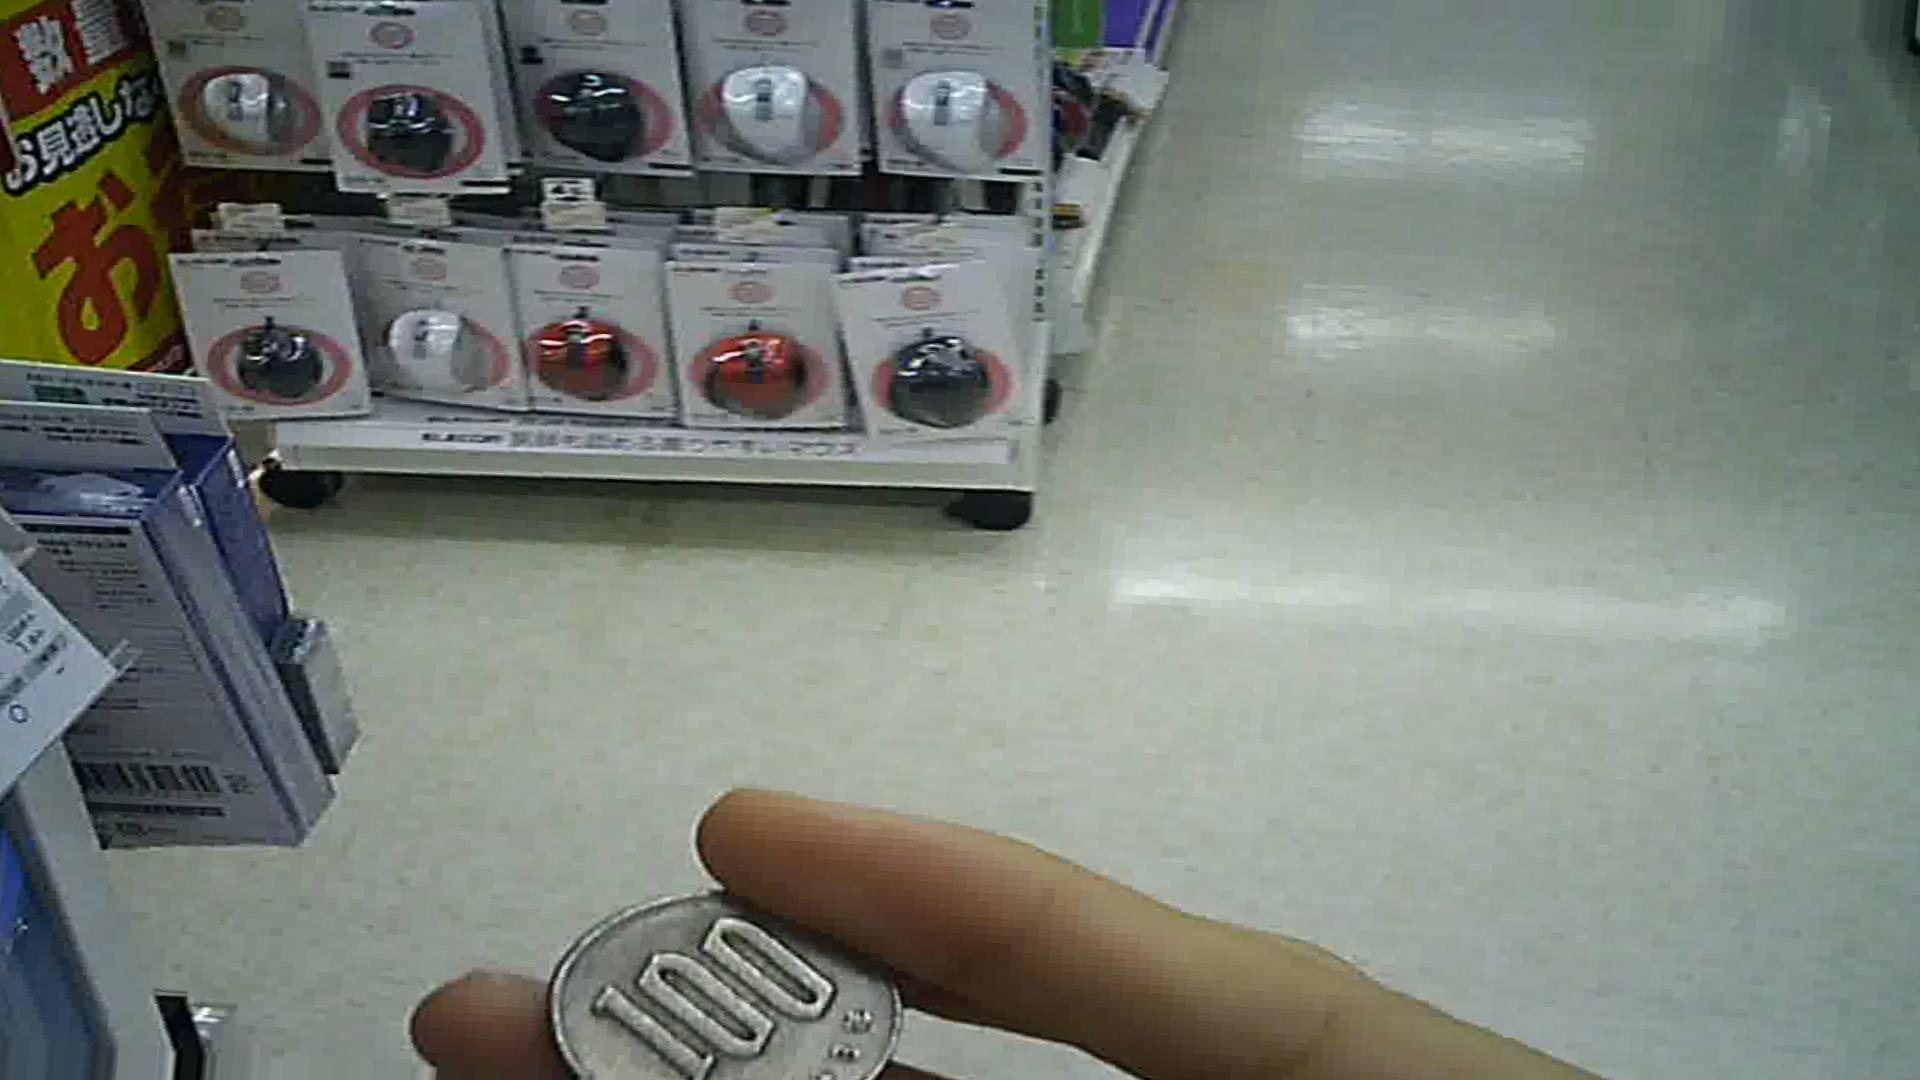100 Yen: (520, 872, 913, 1079)
